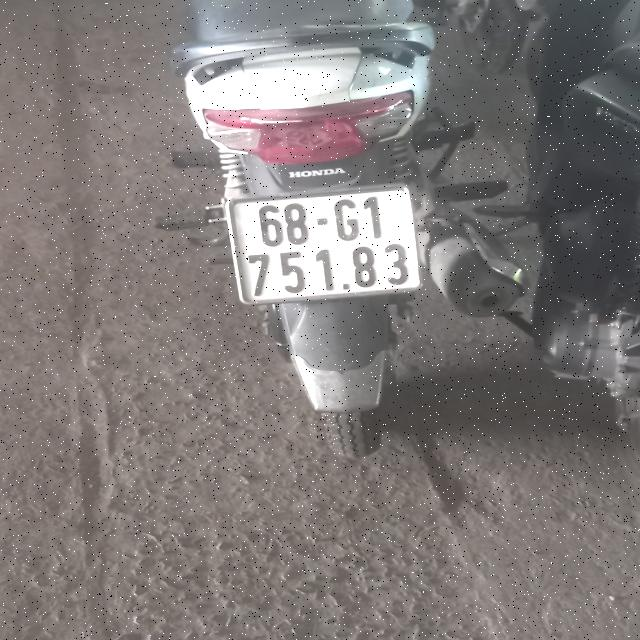1: (313, 249, 334, 292), (364, 196, 381, 240)
3: (382, 243, 408, 284)
5: (278, 250, 306, 293)
6: (258, 205, 284, 248)
7: (248, 254, 270, 298)
8: (284, 203, 308, 244), (353, 246, 376, 288)
G: (333, 199, 360, 241)
